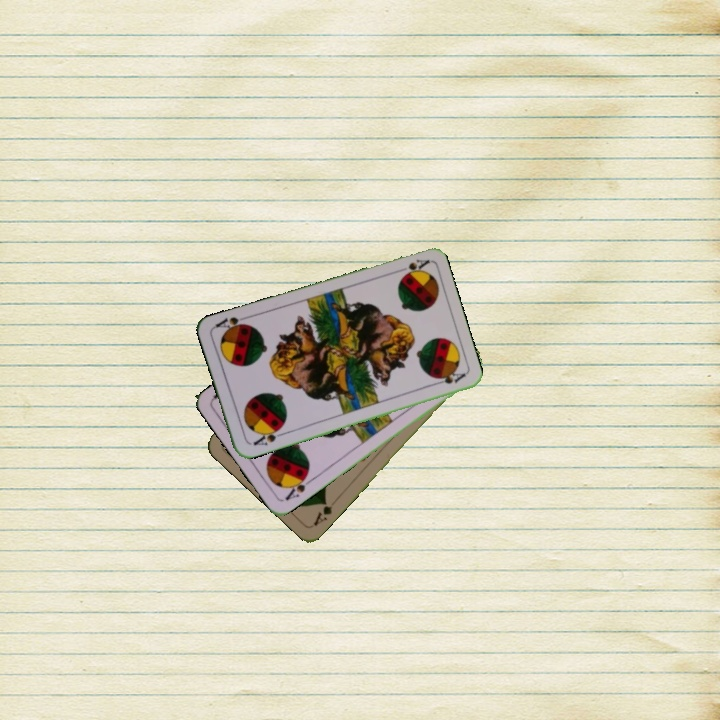GA: (309, 497, 335, 529)
SA: (281, 470, 316, 503), (391, 255, 431, 280), (249, 423, 287, 448)
